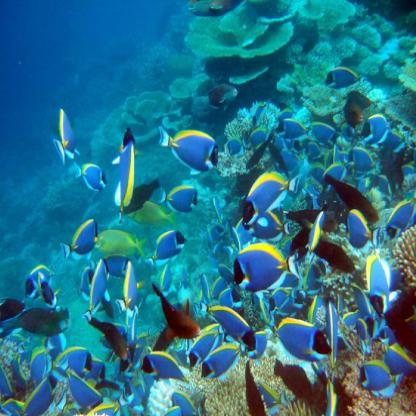Acanthuridae -Surgeonfishes-: (157, 121, 229, 179), (229, 244, 305, 296), (241, 172, 304, 233), (265, 313, 339, 364), (365, 228, 403, 318), (50, 103, 85, 170), (200, 340, 244, 383), (47, 346, 100, 381), (358, 357, 410, 391), (62, 219, 102, 262), (25, 261, 63, 302), (151, 229, 194, 263), (326, 66, 374, 94), (158, 185, 203, 214), (74, 160, 110, 193)
